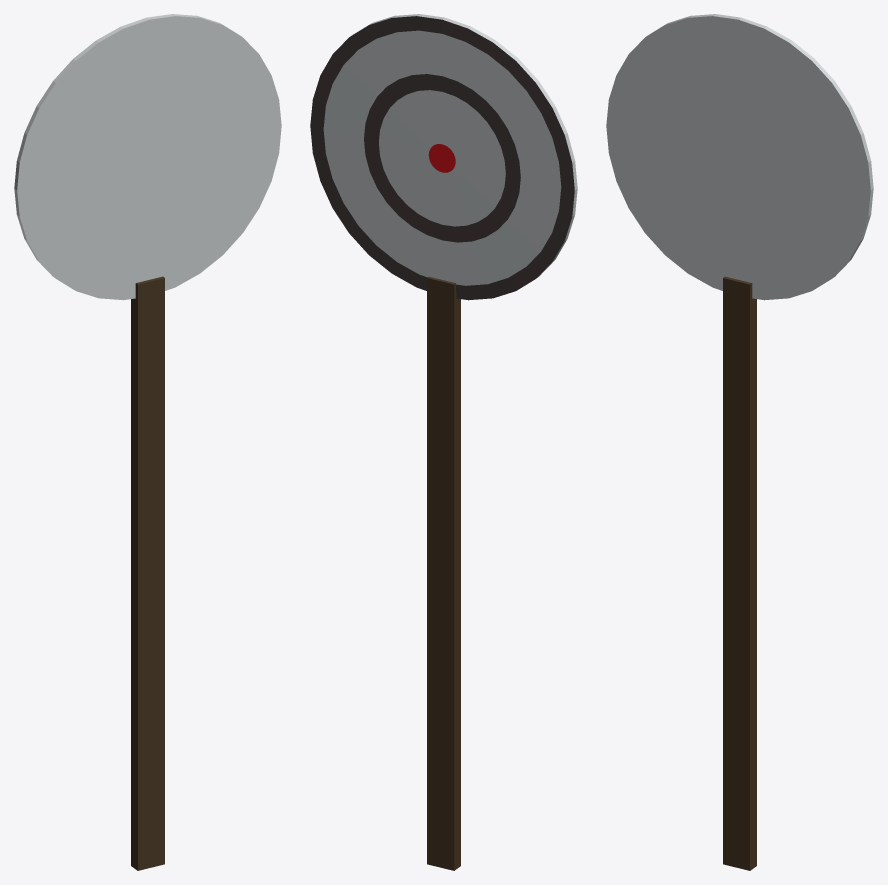
The model's file is standing_target.fbx.
3 views of the same model, side by side, from view 1: azimuth 30°, elevation 25°; view 2: azimuth 150°, elevation 25°; view 3: azimuth 330°, elevation 25° (orthographic).
Parts seen in each view (by area): view 1: Post; view 2: Post; view 3: Post.
Part boxes in pixels (left/top/right/bottom): Post: left=14, top=14, right=281, bottom=870; Post: left=310, top=14, right=577, bottom=870; Post: left=606, top=14, right=873, bottom=870.
Size of the model in its own units: 100 by 306 by 4.49.
